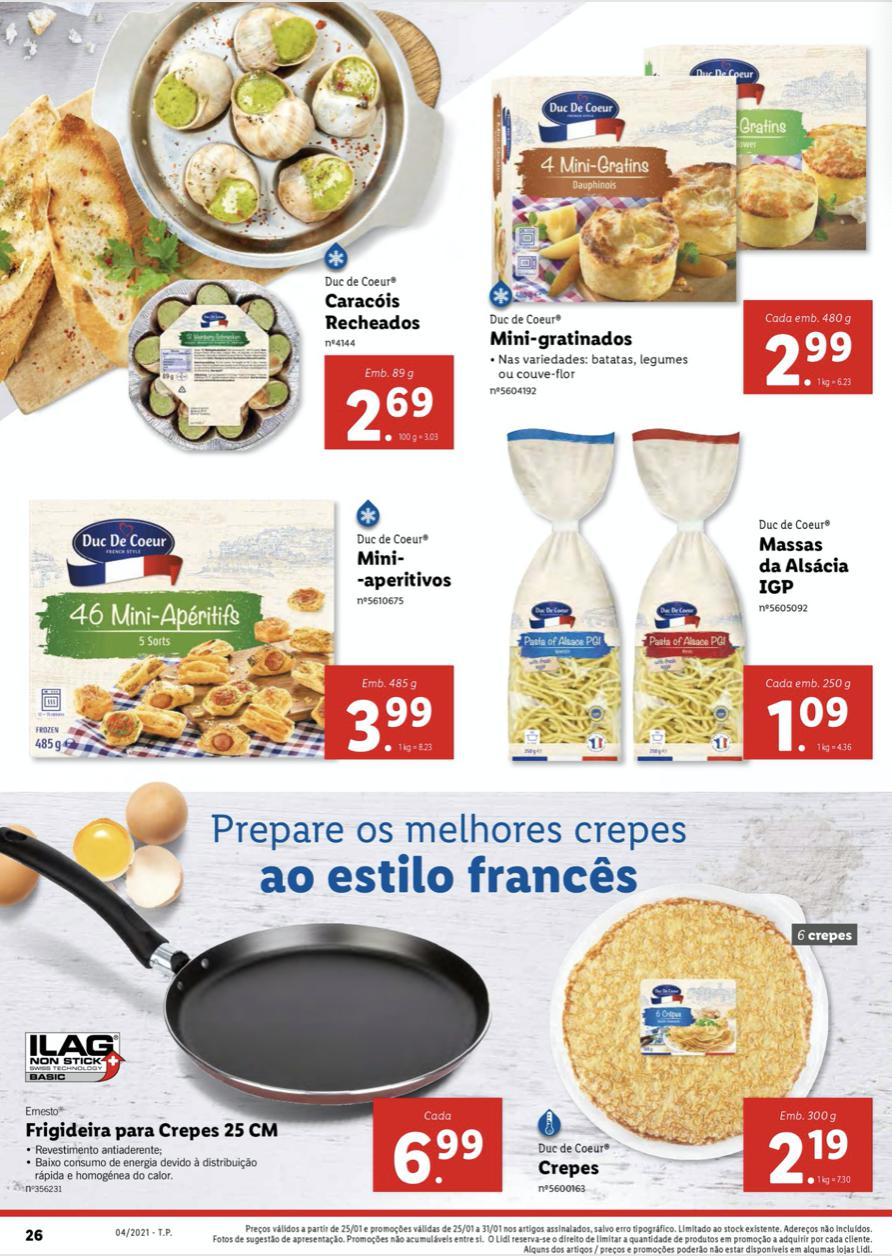name: (22, 1116, 288, 1143), (752, 535, 858, 602), (346, 546, 463, 596), (321, 291, 438, 338), (481, 322, 663, 352), (535, 1155, 605, 1182)
price: (367, 1096, 502, 1194), (322, 661, 453, 761), (739, 663, 874, 760), (741, 1097, 871, 1191), (744, 300, 871, 393), (325, 358, 450, 444)
product: (453, 18, 878, 405), (6, 907, 513, 1204), (485, 414, 878, 775), (8, 479, 466, 771), (524, 889, 885, 1200), (89, 250, 463, 469)
